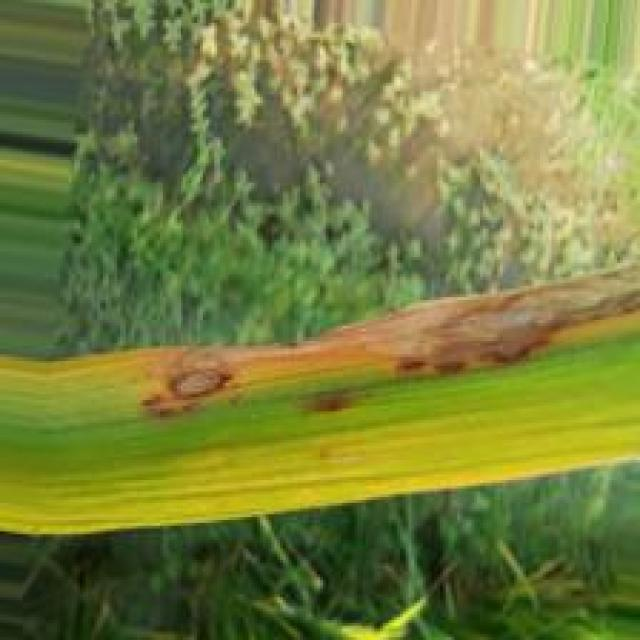Leaf_Blast: (126, 259, 640, 423)
